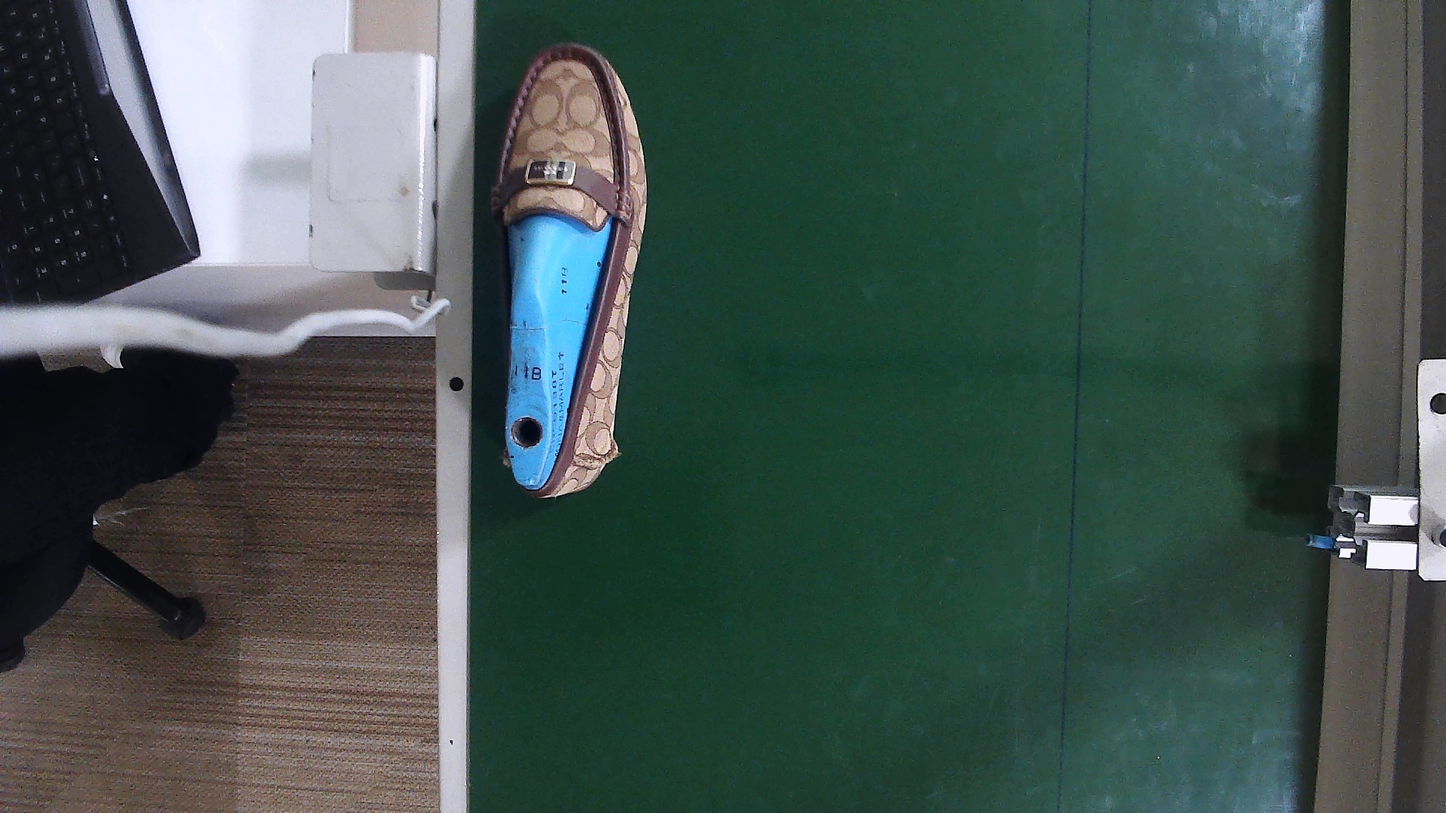shoe: (497, 46, 643, 496)
